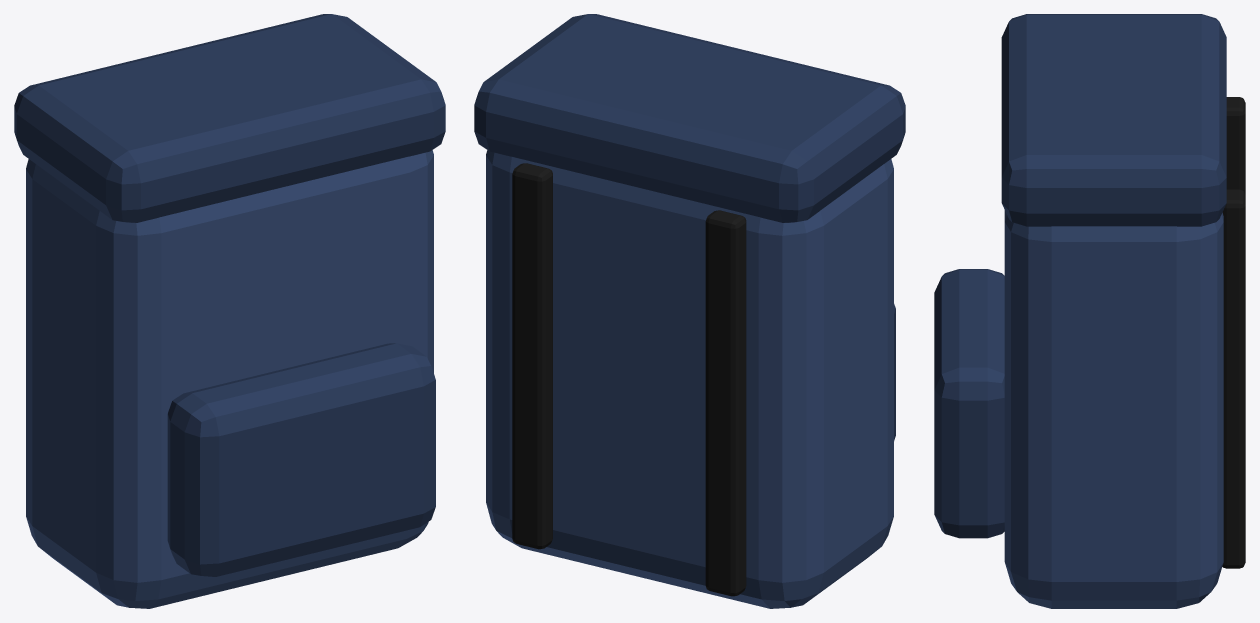
Rendered from DeathCache.fbx.
3 renders of one model, left to right at view 1: azimuth 30°, elevation 25°; view 2: azimuth 150°, elevation 25°; view 3: azimuth 270°, elevation 25°, orthographic. The views are drawn at different scales.
Visible parts, largest first — view 1: Part__Fabric__2e3e5e, Part__Fabric__3c5078; view 2: Part__Fabric__3c5078, Part__Fabric__2e3e5e, Part__Fabric__1e1e1e; view 3: Part__Fabric__3c5078, Part__Fabric__2e3e5e, Part__Fabric__1e1e1e.
Part boxes in pixels (x1,y1,x2,y2): Part__Fabric__2e3e5e: (14, 14, 445, 577); Part__Fabric__3c5078: (26, 150, 433, 608); Part__Fabric__3c5078: (486, 150, 893, 608); Part__Fabric__2e3e5e: (474, 14, 905, 440); Part__Fabric__1e1e1e: (512, 163, 746, 596); Part__Fabric__3c5078: (1004, 210, 1223, 608); Part__Fabric__2e3e5e: (934, 14, 1226, 538); Part__Fabric__1e1e1e: (1222, 97, 1245, 568).
Bounding box in the file's own units: 1.22 × 1.62 × 0.995.
